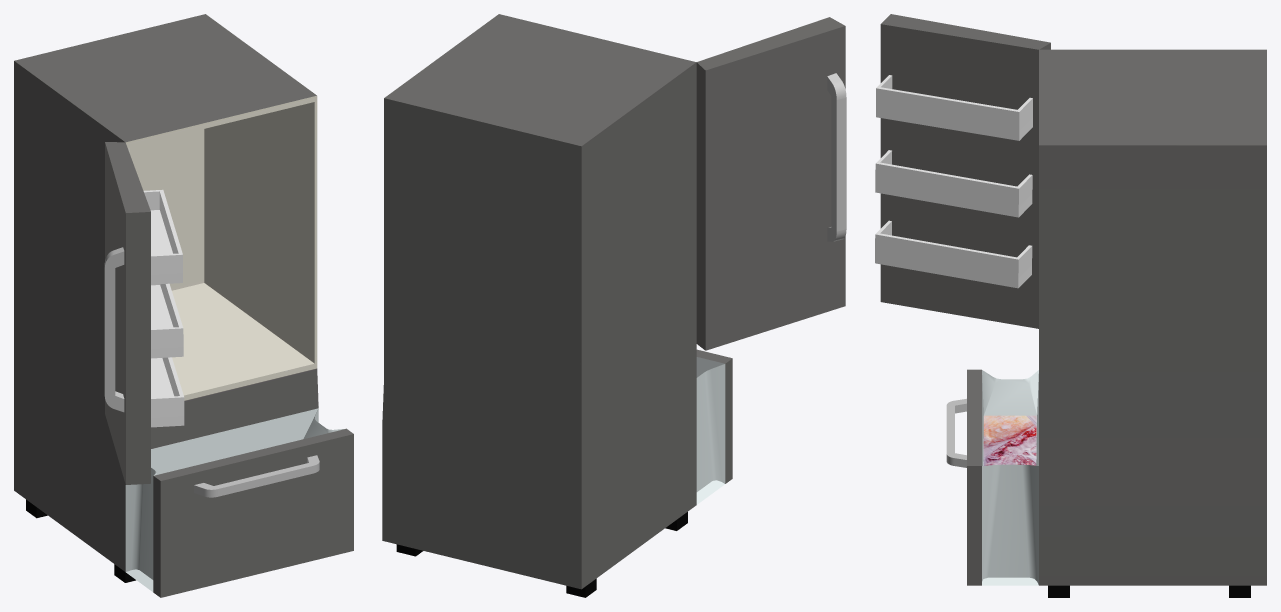
Rendered from Fridge Main 2.fbx.
3 views of the same model, side by side, from view 1: azimuth 30°, elevation 25°; view 2: azimuth 150°, elevation 25°; view 3: azimuth 270°, elevation 25° (orthographic). The views are drawn at different scales.
Visible parts, largest first — view 1: Fridge_Base; view 2: Fridge_Base; view 3: Fridge_Base.
Part boxes in pixels (bbox=[...]): Fridge_Base: bbox=[14, 14, 353, 597]; Fridge_Base: bbox=[382, 14, 846, 597]; Fridge_Base: bbox=[875, 14, 1266, 597].
Size of the model in its own units: 10.43 by 16.05 by 12.54.
1 material, 1 textured.
